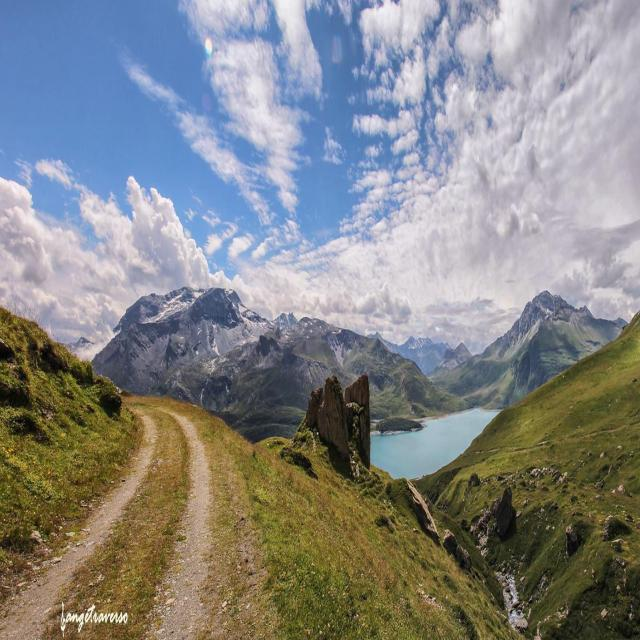eye: (255, 206, 349, 324)
